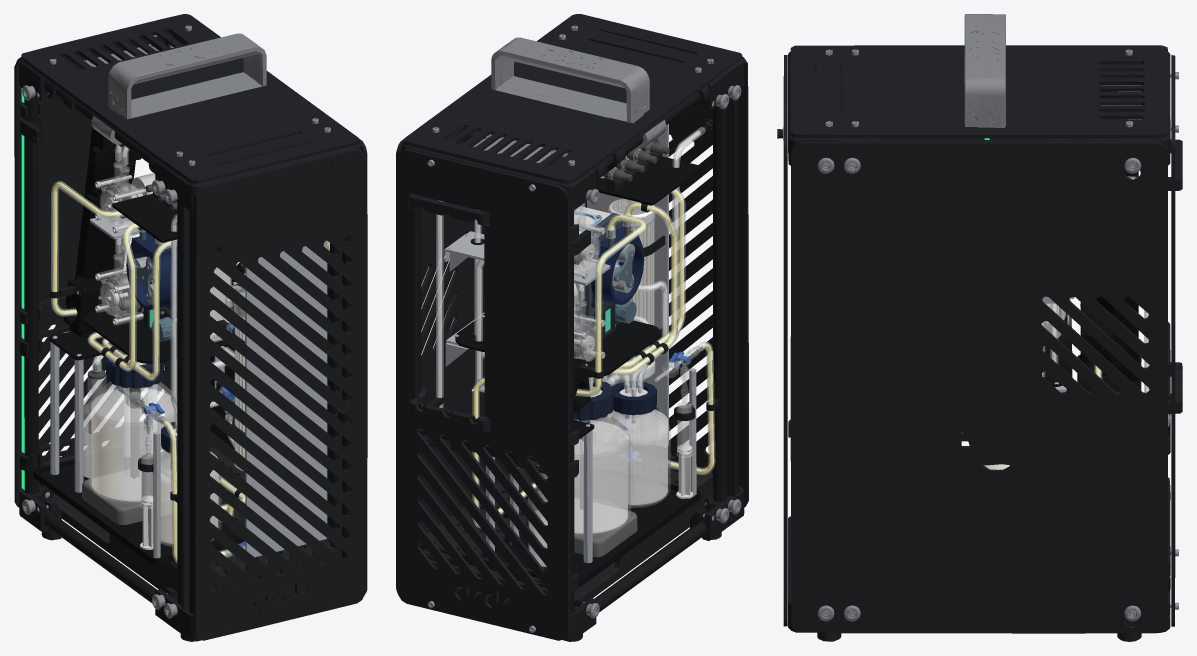
File: b2-reactor.glb
3 renders of one model, left to right at view 1: azimuth 30°, elevation 25°; view 2: azimuth 150°, elevation 25°; view 3: azimuth 270°, elevation 25°, orthographic. The views are drawn at different scales.
Visible parts, largest first — view 1: case.2, case.4, membrane.0, fixtures.2, case.0, case.3, reservoir.3, photometer.7, line-culture.1, reservoir.0, dosing.3, fixtures.5 (+20 smaller); view 2: case.2, case.4, fixtures.2, case.3, line-culture.1, case.0, fixtures.5, reservoir.3, reservoir.0, line-culture.0, harvest.2, harvest.0 (+24 smaller); view 3: case.2, case.3, case.0, photometer.7, fasteners.2, case.4, fasteners.0.
Part boxes in pixels (x1,y1,x2,y2): case.2: (14, 14, 367, 641); case.4: (24, 79, 349, 614); membrane.0: (245, 240, 327, 557); fixtures.2: (33, 192, 244, 564); case.0: (19, 31, 361, 641); case.3: (91, 33, 266, 144); reservoir.3: (88, 382, 174, 503); photometer.7: (63, 127, 141, 337); line-culture.1: (51, 181, 329, 562); reservoir.0: (91, 388, 175, 500); dosing.3: (95, 153, 155, 325); fixtures.5: (39, 437, 332, 591); case.2: (396, 14, 748, 641); case.4: (411, 92, 738, 614); fixtures.2: (455, 153, 701, 586); case.3: (491, 37, 666, 148); line-culture.1: (472, 188, 715, 528); case.0: (402, 58, 744, 641); fixtures.5: (424, 439, 713, 600); reservoir.3: (574, 414, 630, 535); reservoir.0: (574, 420, 627, 532); line-culture.0: (474, 189, 714, 526); harvest.2: (610, 410, 670, 507); harvest.0: (607, 409, 667, 504); case.2: (783, 45, 1182, 641); case.3: (964, 14, 1005, 127); case.0: (788, 52, 1170, 632); photometer.7: (1080, 169, 1138, 381); fasteners.2: (817, 157, 1141, 621); case.4: (869, 138, 1115, 141); fasteners.0: (822, 49, 1178, 617).
Bounding box in the file's own units: 0.237 × 0.6185 × 0.4091.
